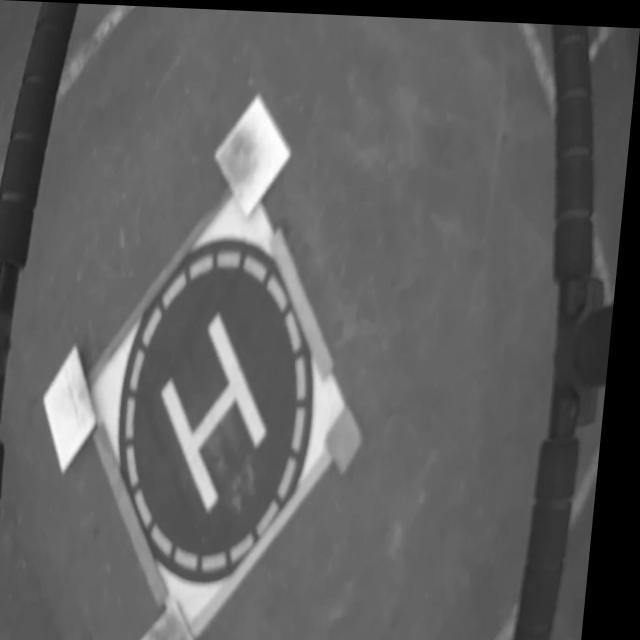Helipad: (168, 312, 278, 511)
